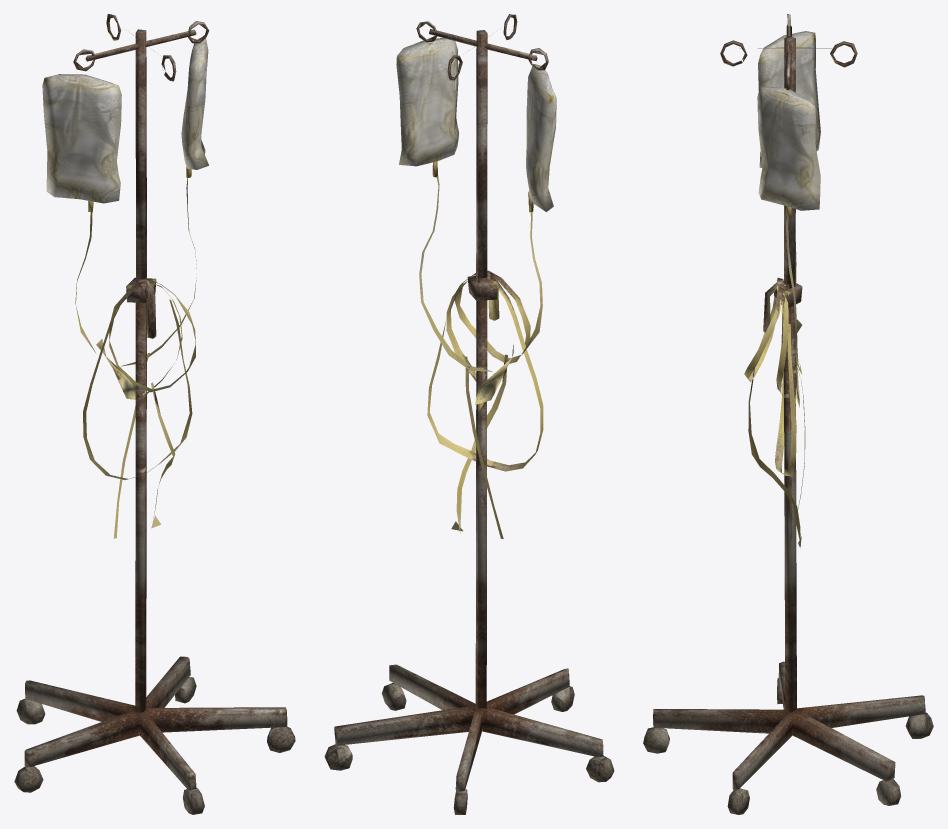
3 renders of one model, left to right at view 1: azimuth 30°, elevation 25°; view 2: azimuth 150°, elevation 25°; view 3: azimuth 270°, elevation 25°, orthographic.
Size of the model in its own units: 0.3664 by 1 by 0.3658.
1 material, 1 textured.
